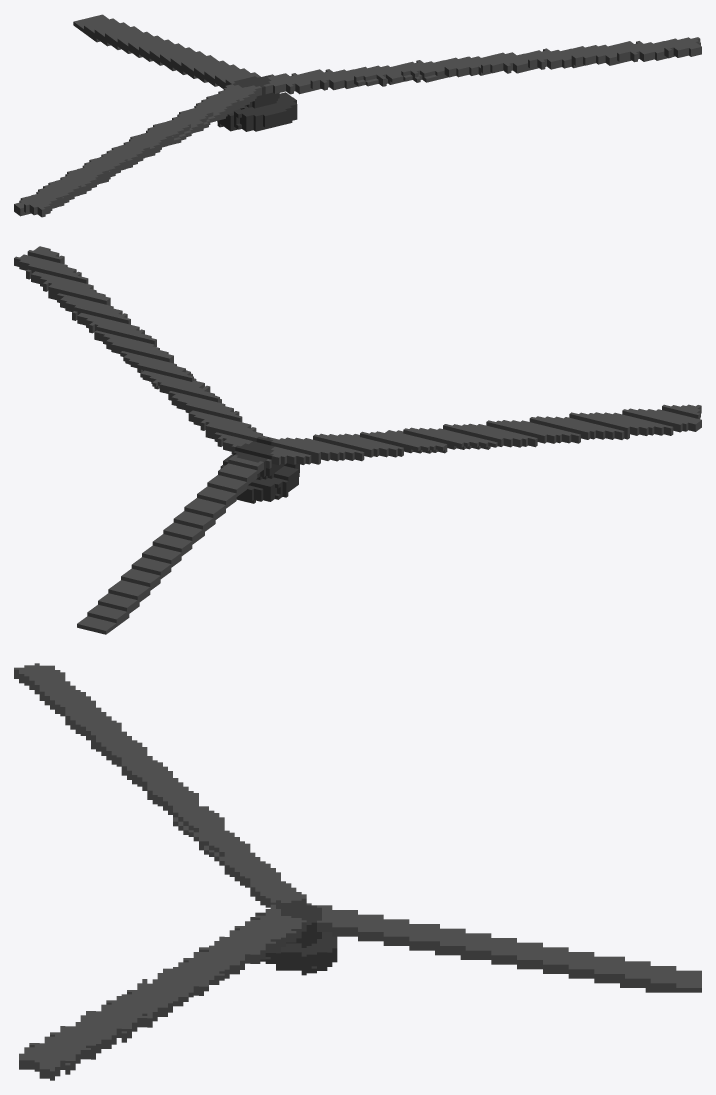
Rendered from ChinookHel.vox-1.obj.
3 renders of one model, top to bottom at view 1: azimuth 30°, elevation 25°; view 2: azimuth 150°, elevation 25°; view 3: azimuth 270°, elevation 25°, orthographic. The views are drawn at different scales.
Size of the model in its own units: 18.7 by 2.6 by 13.4.
Materials: 1 (1 with a texture image).
